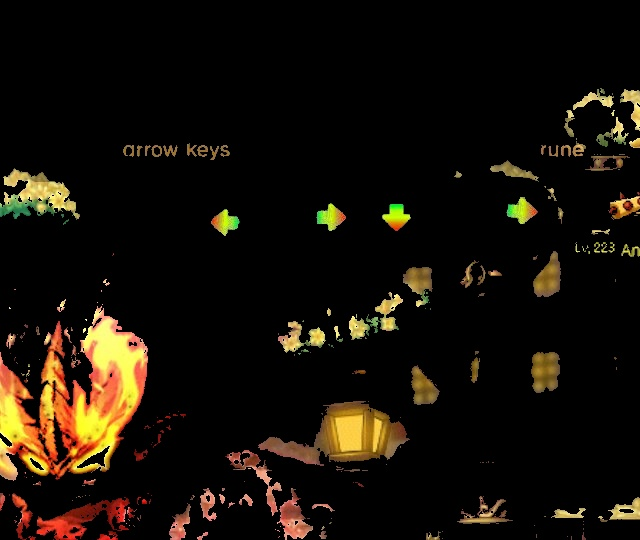rune_box: (154, 169, 575, 265)
